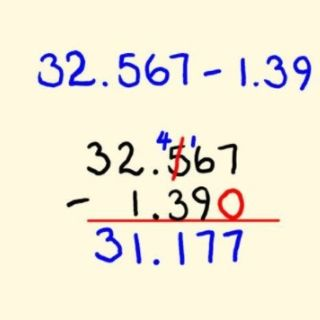.: (250, 78, 261, 89), (101, 78, 109, 89), (152, 165, 159, 177)
0: (216, 186, 247, 220)
1: (130, 231, 144, 265), (237, 57, 248, 87)
2: (64, 48, 96, 89)
3: (36, 51, 65, 89), (264, 52, 288, 91)
4: (154, 129, 171, 151)
5: (118, 49, 141, 89)
6: (143, 51, 170, 86)
7: (217, 136, 242, 174), (168, 50, 192, 86)
9: (291, 54, 314, 92)
